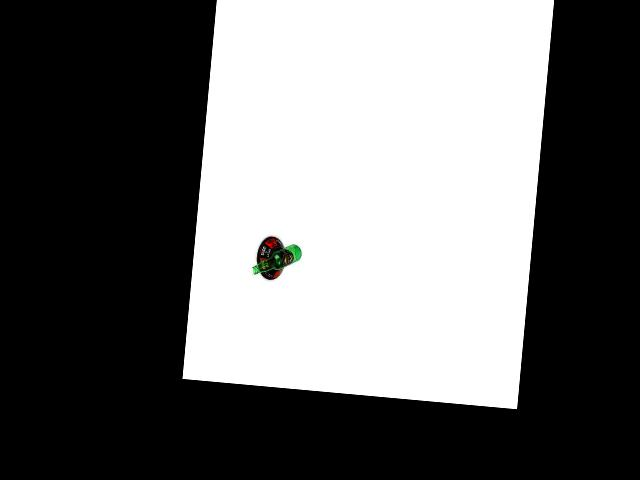beer: (251, 240, 302, 277)
